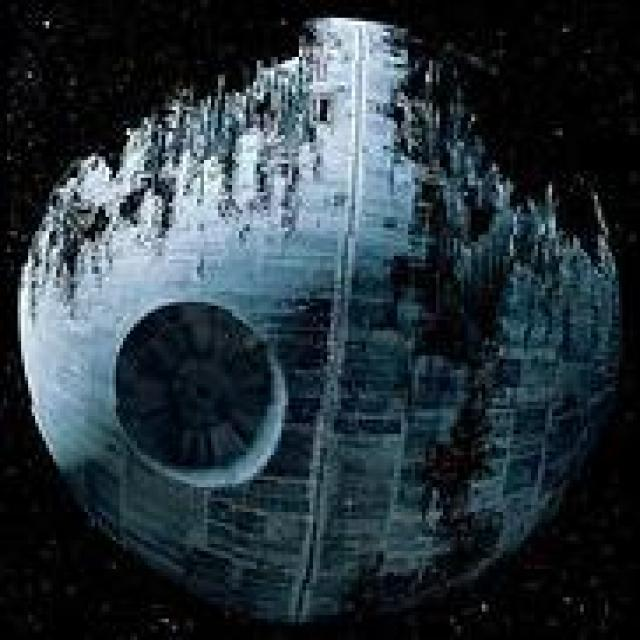Death Star: (11, 7, 630, 626)
